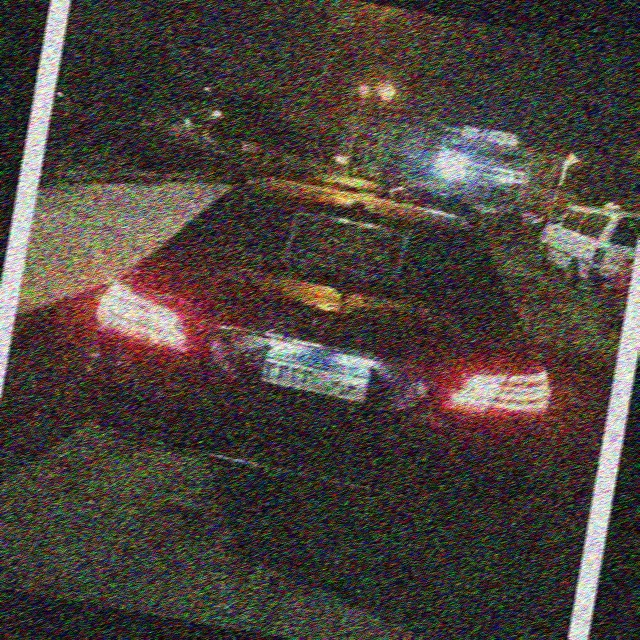License Plate: (256, 339, 377, 408)
